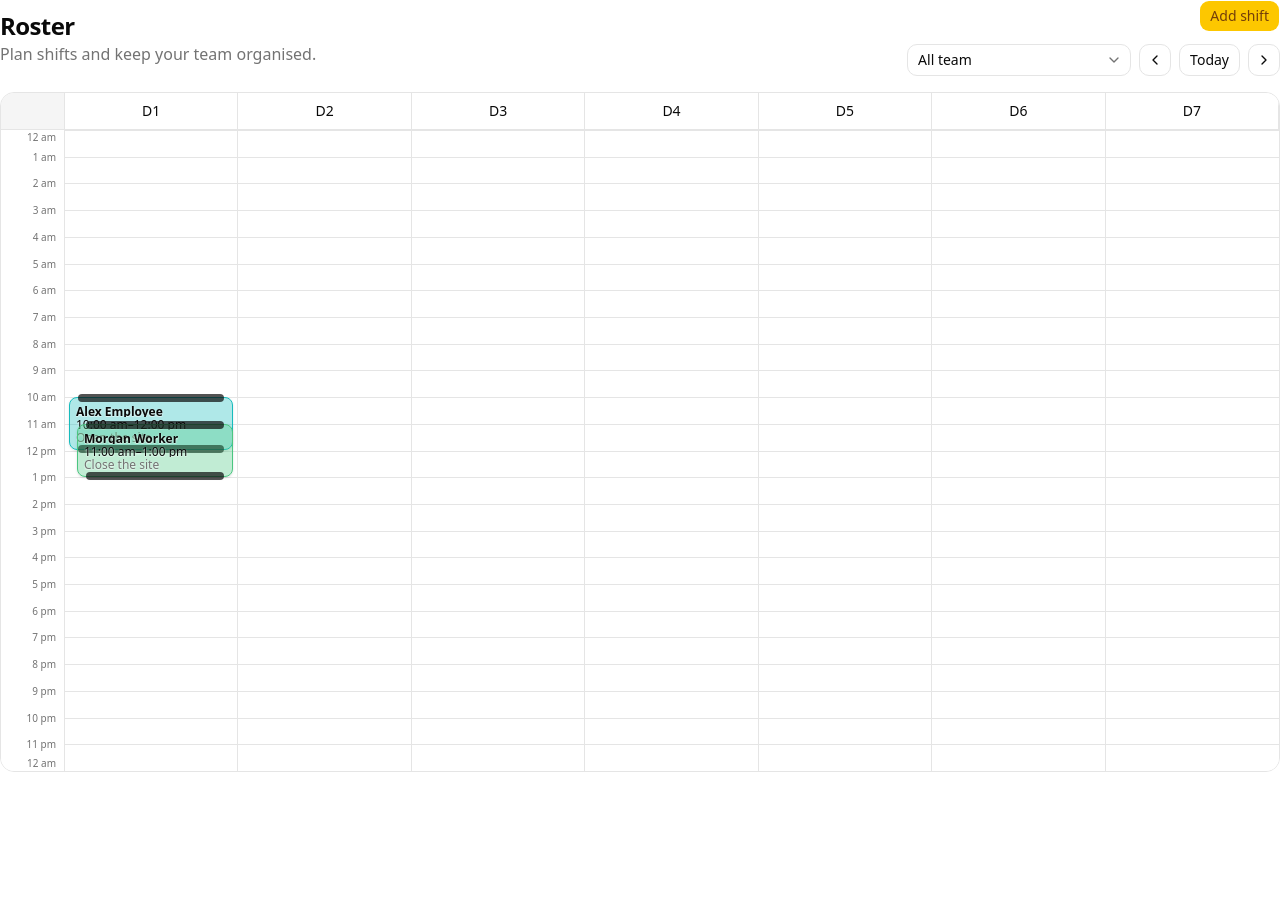
Test case: RosterCalendar › opens exact creation details after a desktop range drag
Press the mouse on the element named "Day 1 team shift canvas" at (151, 437), box [69,397,233,477]
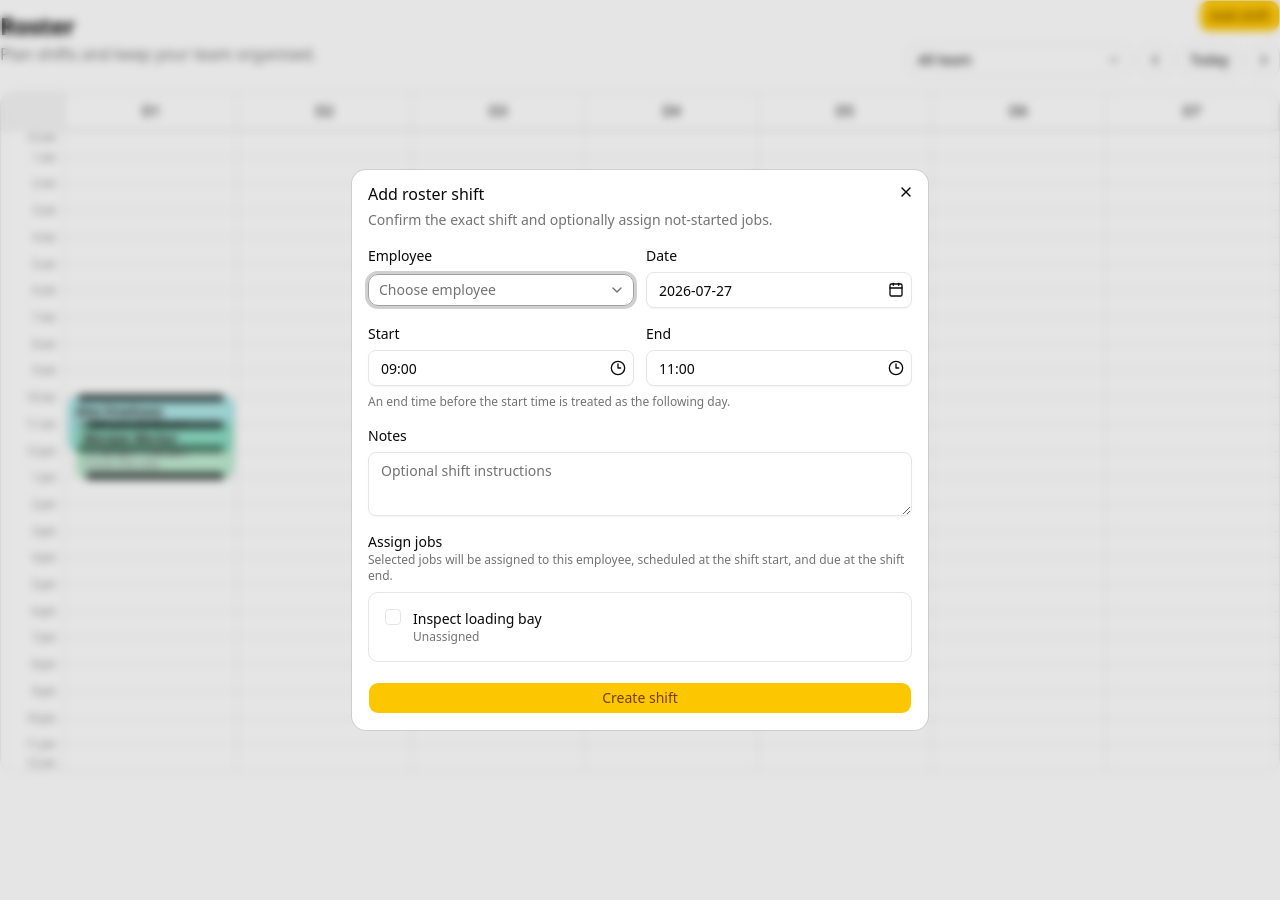
Expected: the field labelled "Date" holds "2026-07-27", [646,272,912,308]
Expected: the field labelled "Start" holds "09:00", [368,350,634,386]
Expected: the field labelled "End" holds "11:00", [646,350,912,386]
